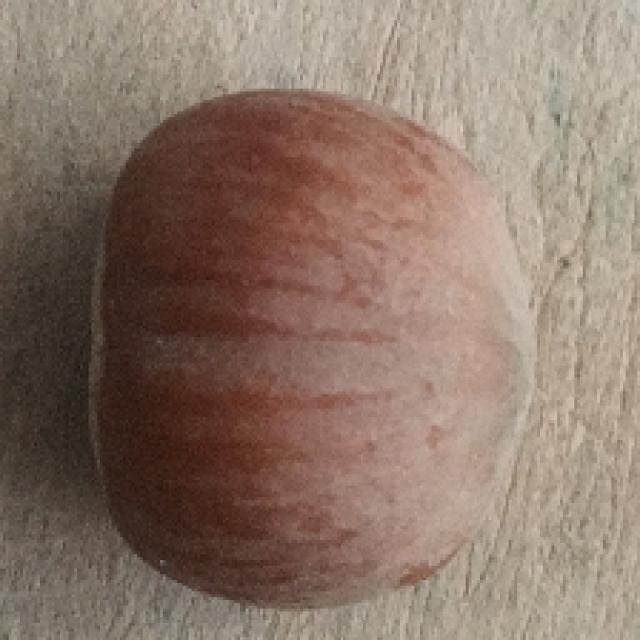qualityHazelnut: (72, 95, 551, 601)
